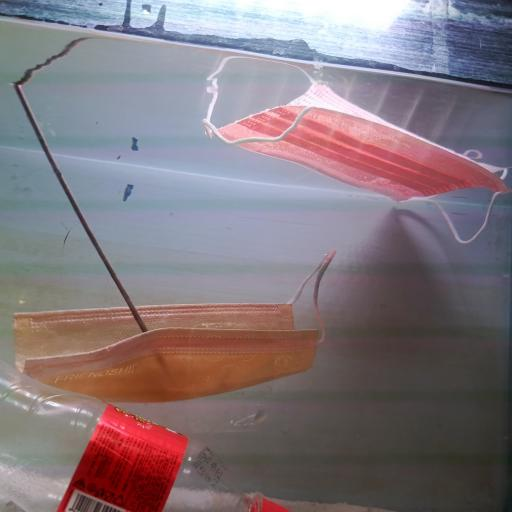bottle_cap: (252, 492, 293, 512)
mask: (208, 93, 509, 240), (8, 298, 336, 398)
plastic_bottle: (5, 384, 290, 512)
